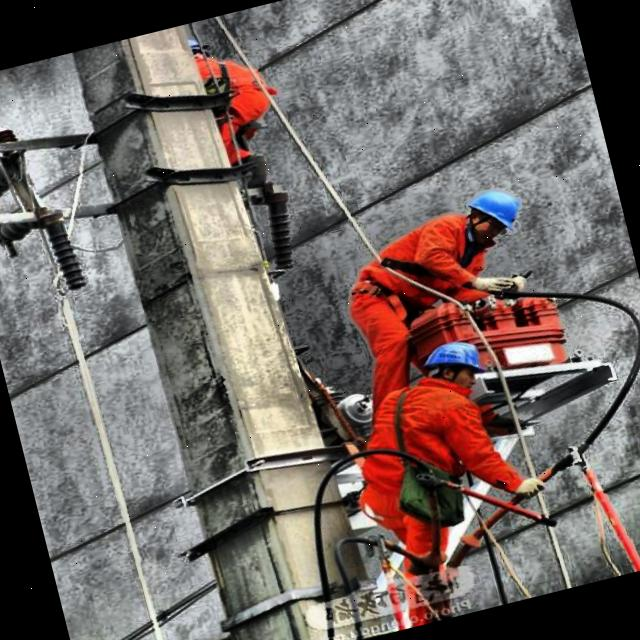helmet: (412, 330, 493, 402), (453, 183, 528, 250)
